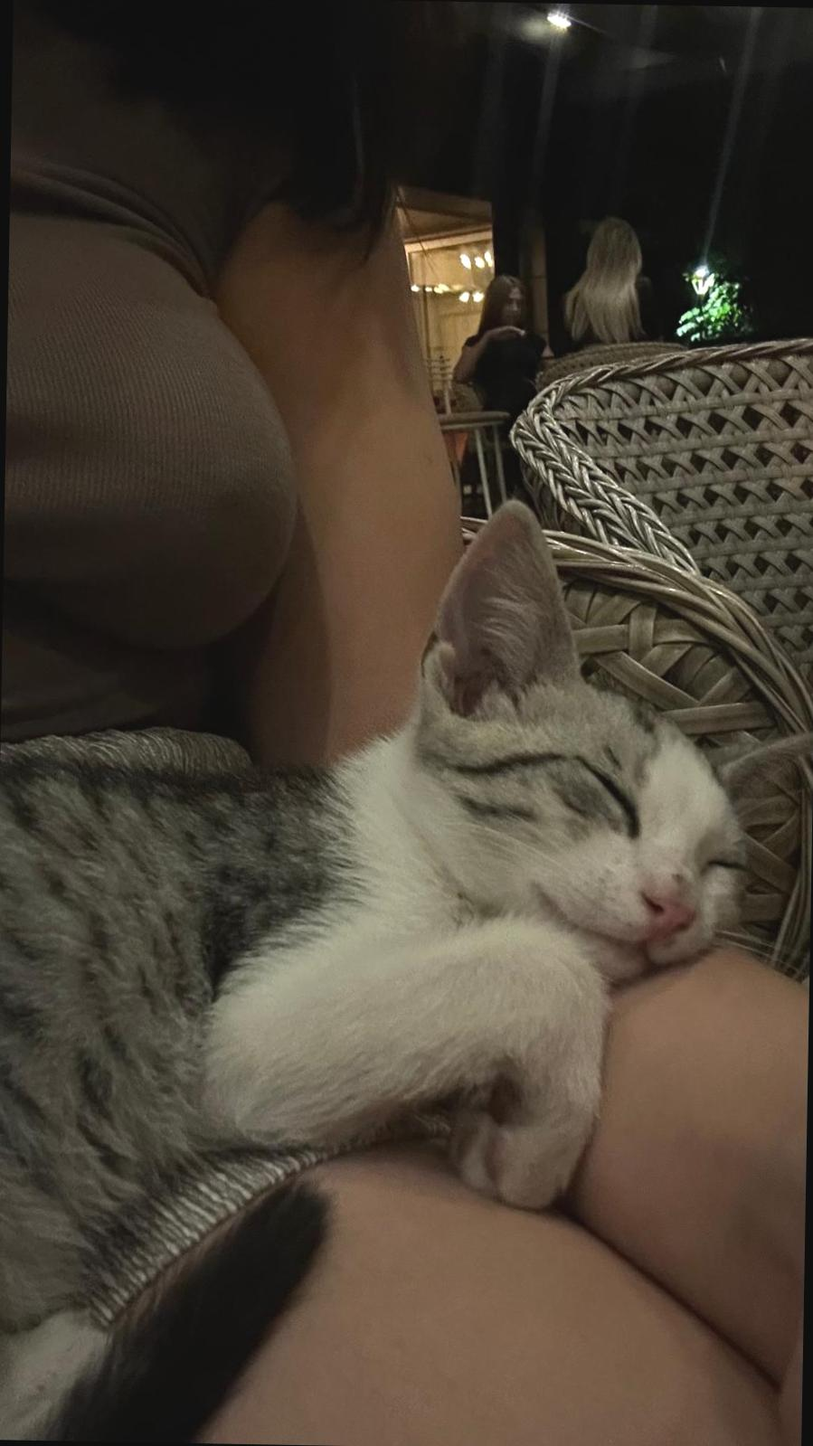macka: (0, 487, 813, 1446)
